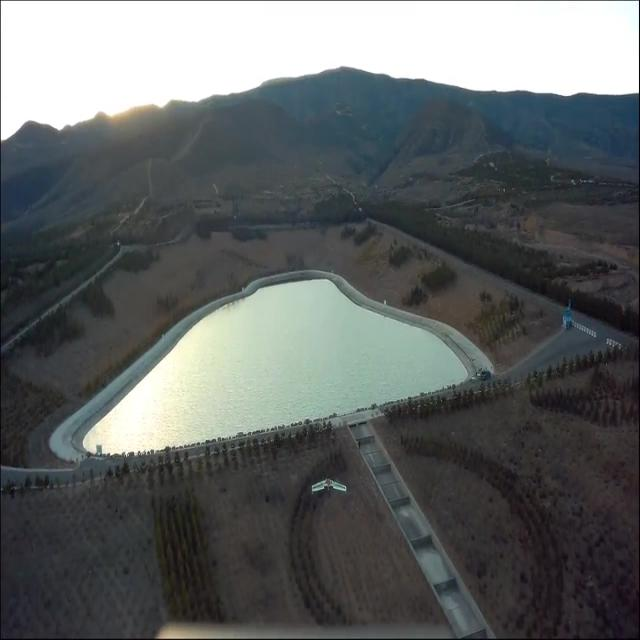iha: (306, 478, 341, 495)
